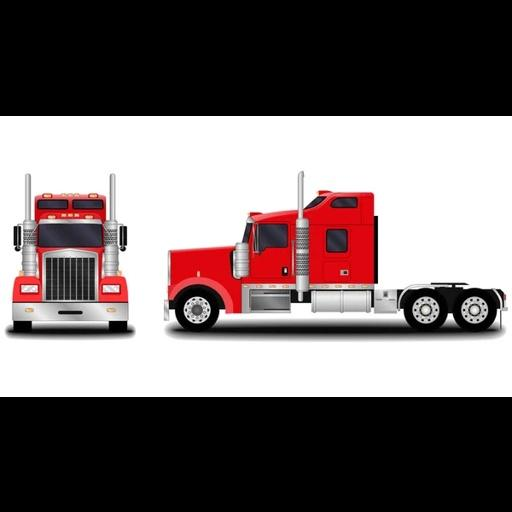truck: (158, 171, 510, 332), (8, 173, 131, 330)
